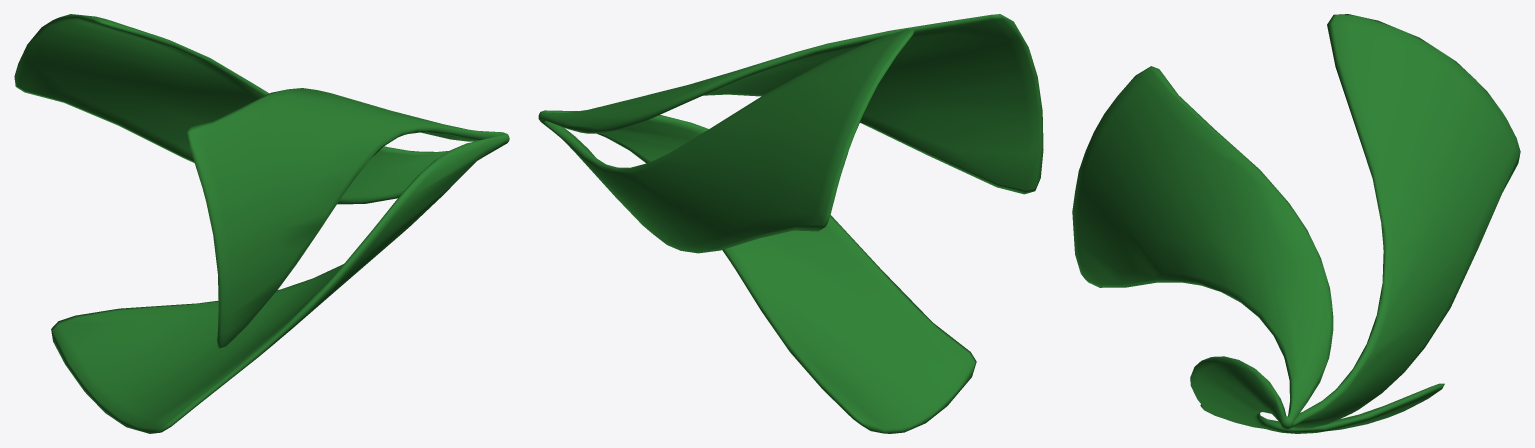
File: Leaf.fbx
3 renders of one model, left to right at view 1: azimuth 30°, elevation 25°; view 2: azimuth 150°, elevation 25°; view 3: azimuth 270°, elevation 25°, orthographic. The views are drawn at different scales.
Parts seen in each view (by area): view 1: Cone; view 2: Cone; view 3: Cone.
Boxes of the visible parts, x1,y1,x2,y2 form: Cone: (14,14,509,433); Cone: (538,14,1043,433); Cone: (1072,14,1520,433).
Bounding box in the file's own units: 81.01 × 87.58 × 83.08.
